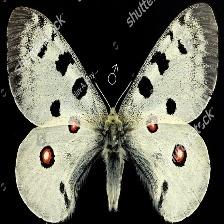butterfly: (7, 4, 219, 223)
